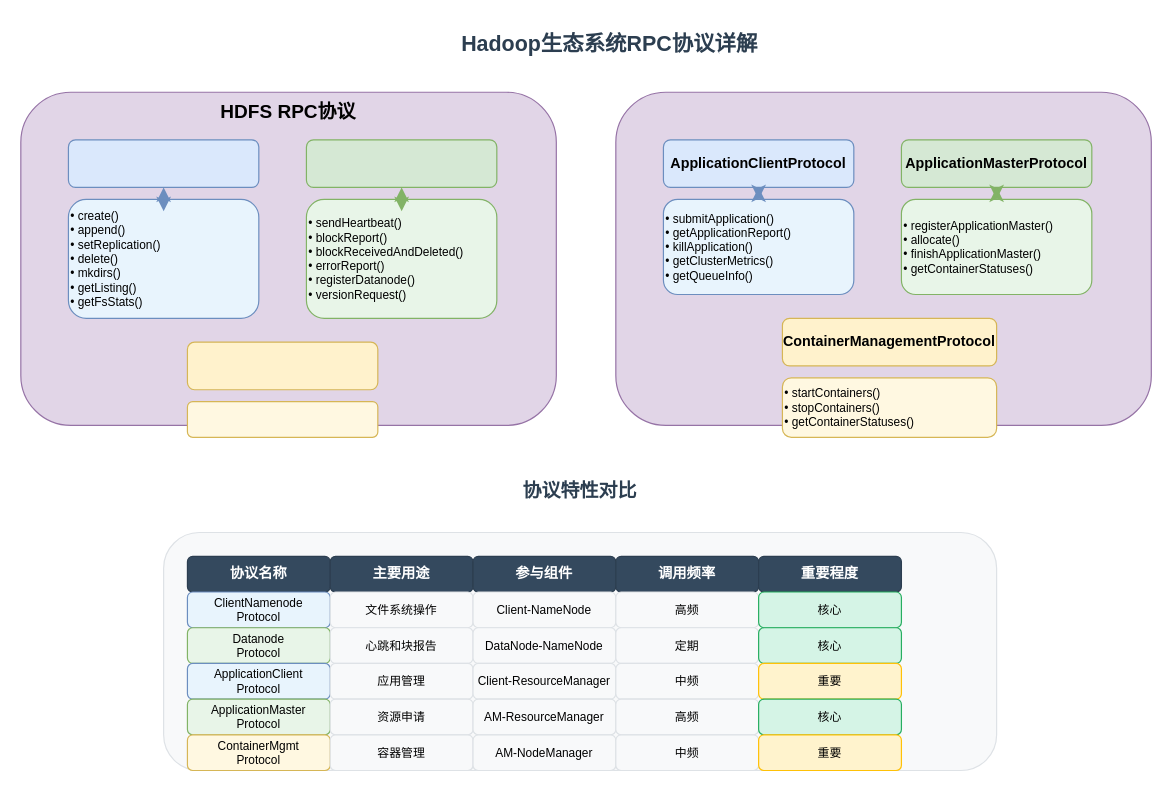
Image size: 1172x791. Some labels were removed from this diagram. Each missing label, with the box of its shape:
ClientNamenodeProtocol: (67, 139, 259, 187)
DatanodeLifelineProtocol: (186, 341, 378, 390)
DatanodeProtocol: (305, 139, 497, 187)
YARN RPC协议: (615, 91, 1151, 425)
独立健康检查 防止资源耗尽: (186, 400, 378, 437)
